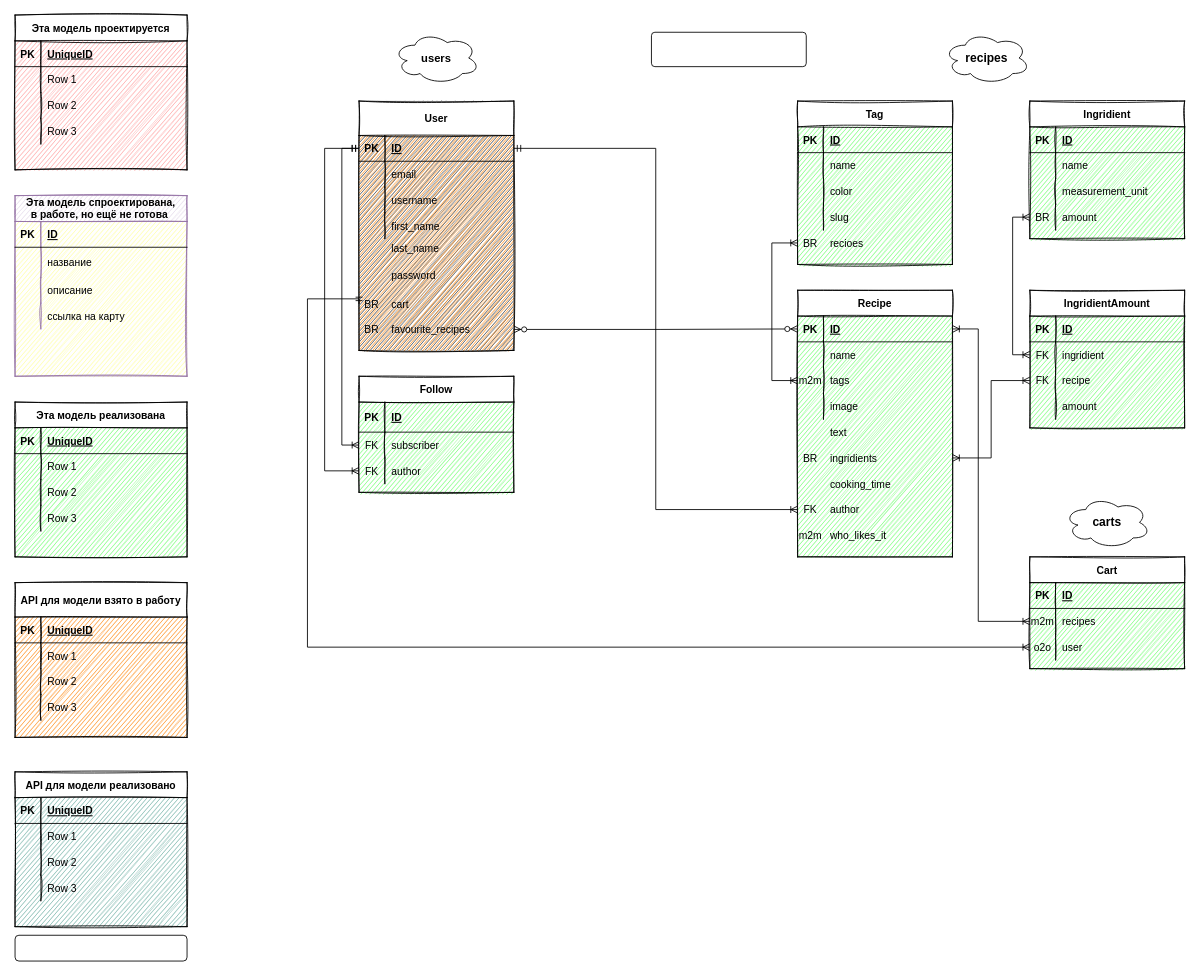
Image size: 1200x976. Some labels were removed from this diagram. The centre of each missing label's shape, as x and y in pixels:
BR - back reference: (x=100, y=947)
Models: (x=728, y=49)
